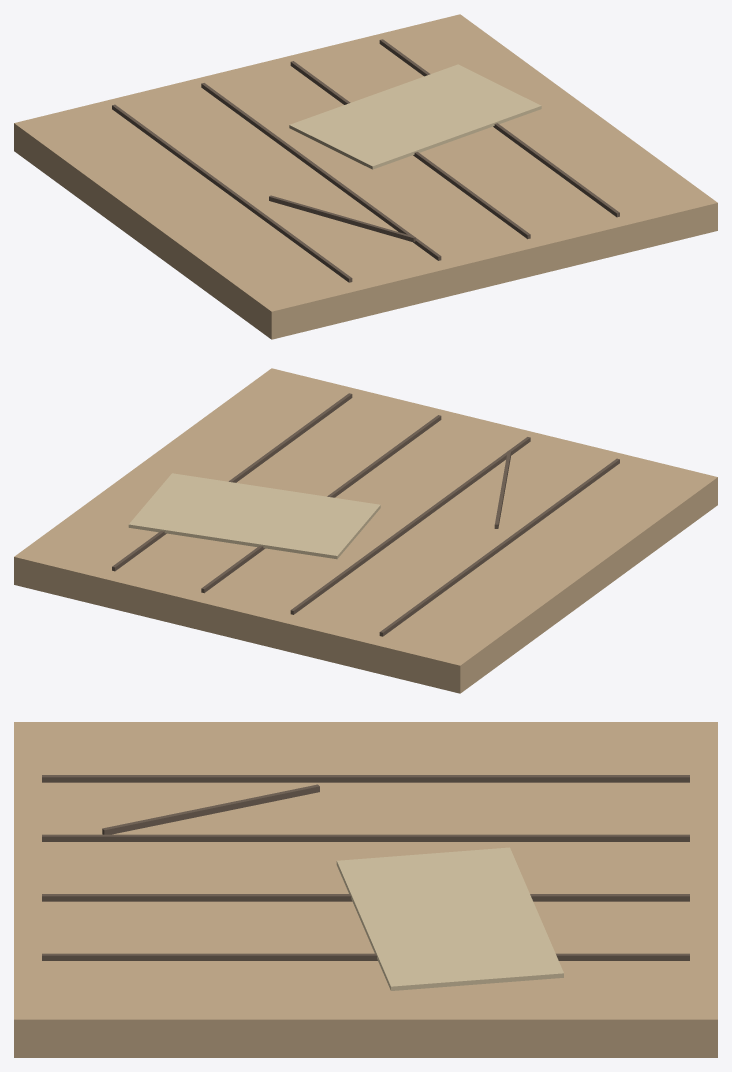
Rendered from trader_floor_slab.glb.
The picture shows the model from 3 angles, top to bottom: view 1: azimuth 30°, elevation 25°; view 2: azimuth 150°, elevation 25°; view 3: azimuth 270°, elevation 25°; orthographic projection. The views are drawn at different scales.
Visible parts, largest first — view 1: single_old_klim_floor_slab_core_2m, floor_sandy_wear_patch, floor_plank_gap_0, floor_plank_gap_1, floor_plank_gap_3, floor_plank_gap_2, floor_split_line; view 2: single_old_klim_floor_slab_core_2m, floor_sandy_wear_patch, floor_plank_gap_0, floor_plank_gap_1, floor_plank_gap_3, floor_plank_gap_2; view 3: single_old_klim_floor_slab_core_2m, floor_sandy_wear_patch, floor_plank_gap_0, floor_plank_gap_1, floor_plank_gap_2, floor_plank_gap_3, floor_split_line.
Boxes of the visible parts, bbox=[...] form: single_old_klim_floor_slab_core_2m: bbox=[14, 14, 717, 339]; floor_sandy_wear_patch: bbox=[289, 64, 541, 169]; floor_plank_gap_0: bbox=[112, 104, 352, 282]; floor_plank_gap_1: bbox=[201, 83, 441, 260]; floor_plank_gap_3: bbox=[379, 39, 619, 217]; floor_plank_gap_2: bbox=[290, 61, 530, 239]; floor_split_line: bbox=[269, 195, 415, 242]; single_old_klim_floor_slab_core_2m: bbox=[14, 368, 717, 693]; floor_sandy_wear_patch: bbox=[128, 473, 380, 559]; floor_plank_gap_0: bbox=[379, 458, 619, 636]; floor_plank_gap_1: bbox=[290, 437, 530, 614]; floor_plank_gap_3: bbox=[112, 393, 352, 571]; floor_plank_gap_2: bbox=[201, 415, 441, 593]; single_old_klim_floor_slab_core_2m: bbox=[14, 722, 717, 1057]; floor_sandy_wear_patch: bbox=[336, 847, 563, 990]; floor_plank_gap_0: bbox=[42, 775, 689, 782]; floor_plank_gap_1: bbox=[42, 834, 689, 841]; floor_plank_gap_2: bbox=[42, 894, 689, 901]; floor_plank_gap_3: bbox=[42, 953, 689, 960]; floor_split_line: bbox=[102, 784, 319, 834].
Size of the model in its own units: 2 by 0.151 by 2.
